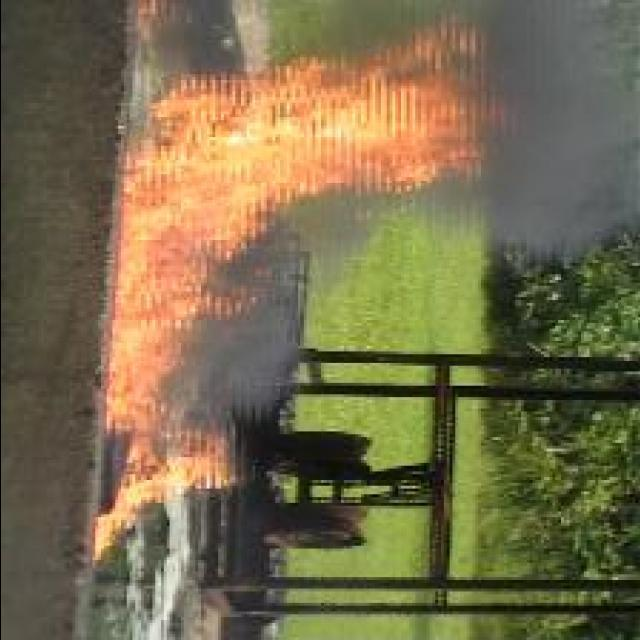Fire: (92, 18, 526, 564)
